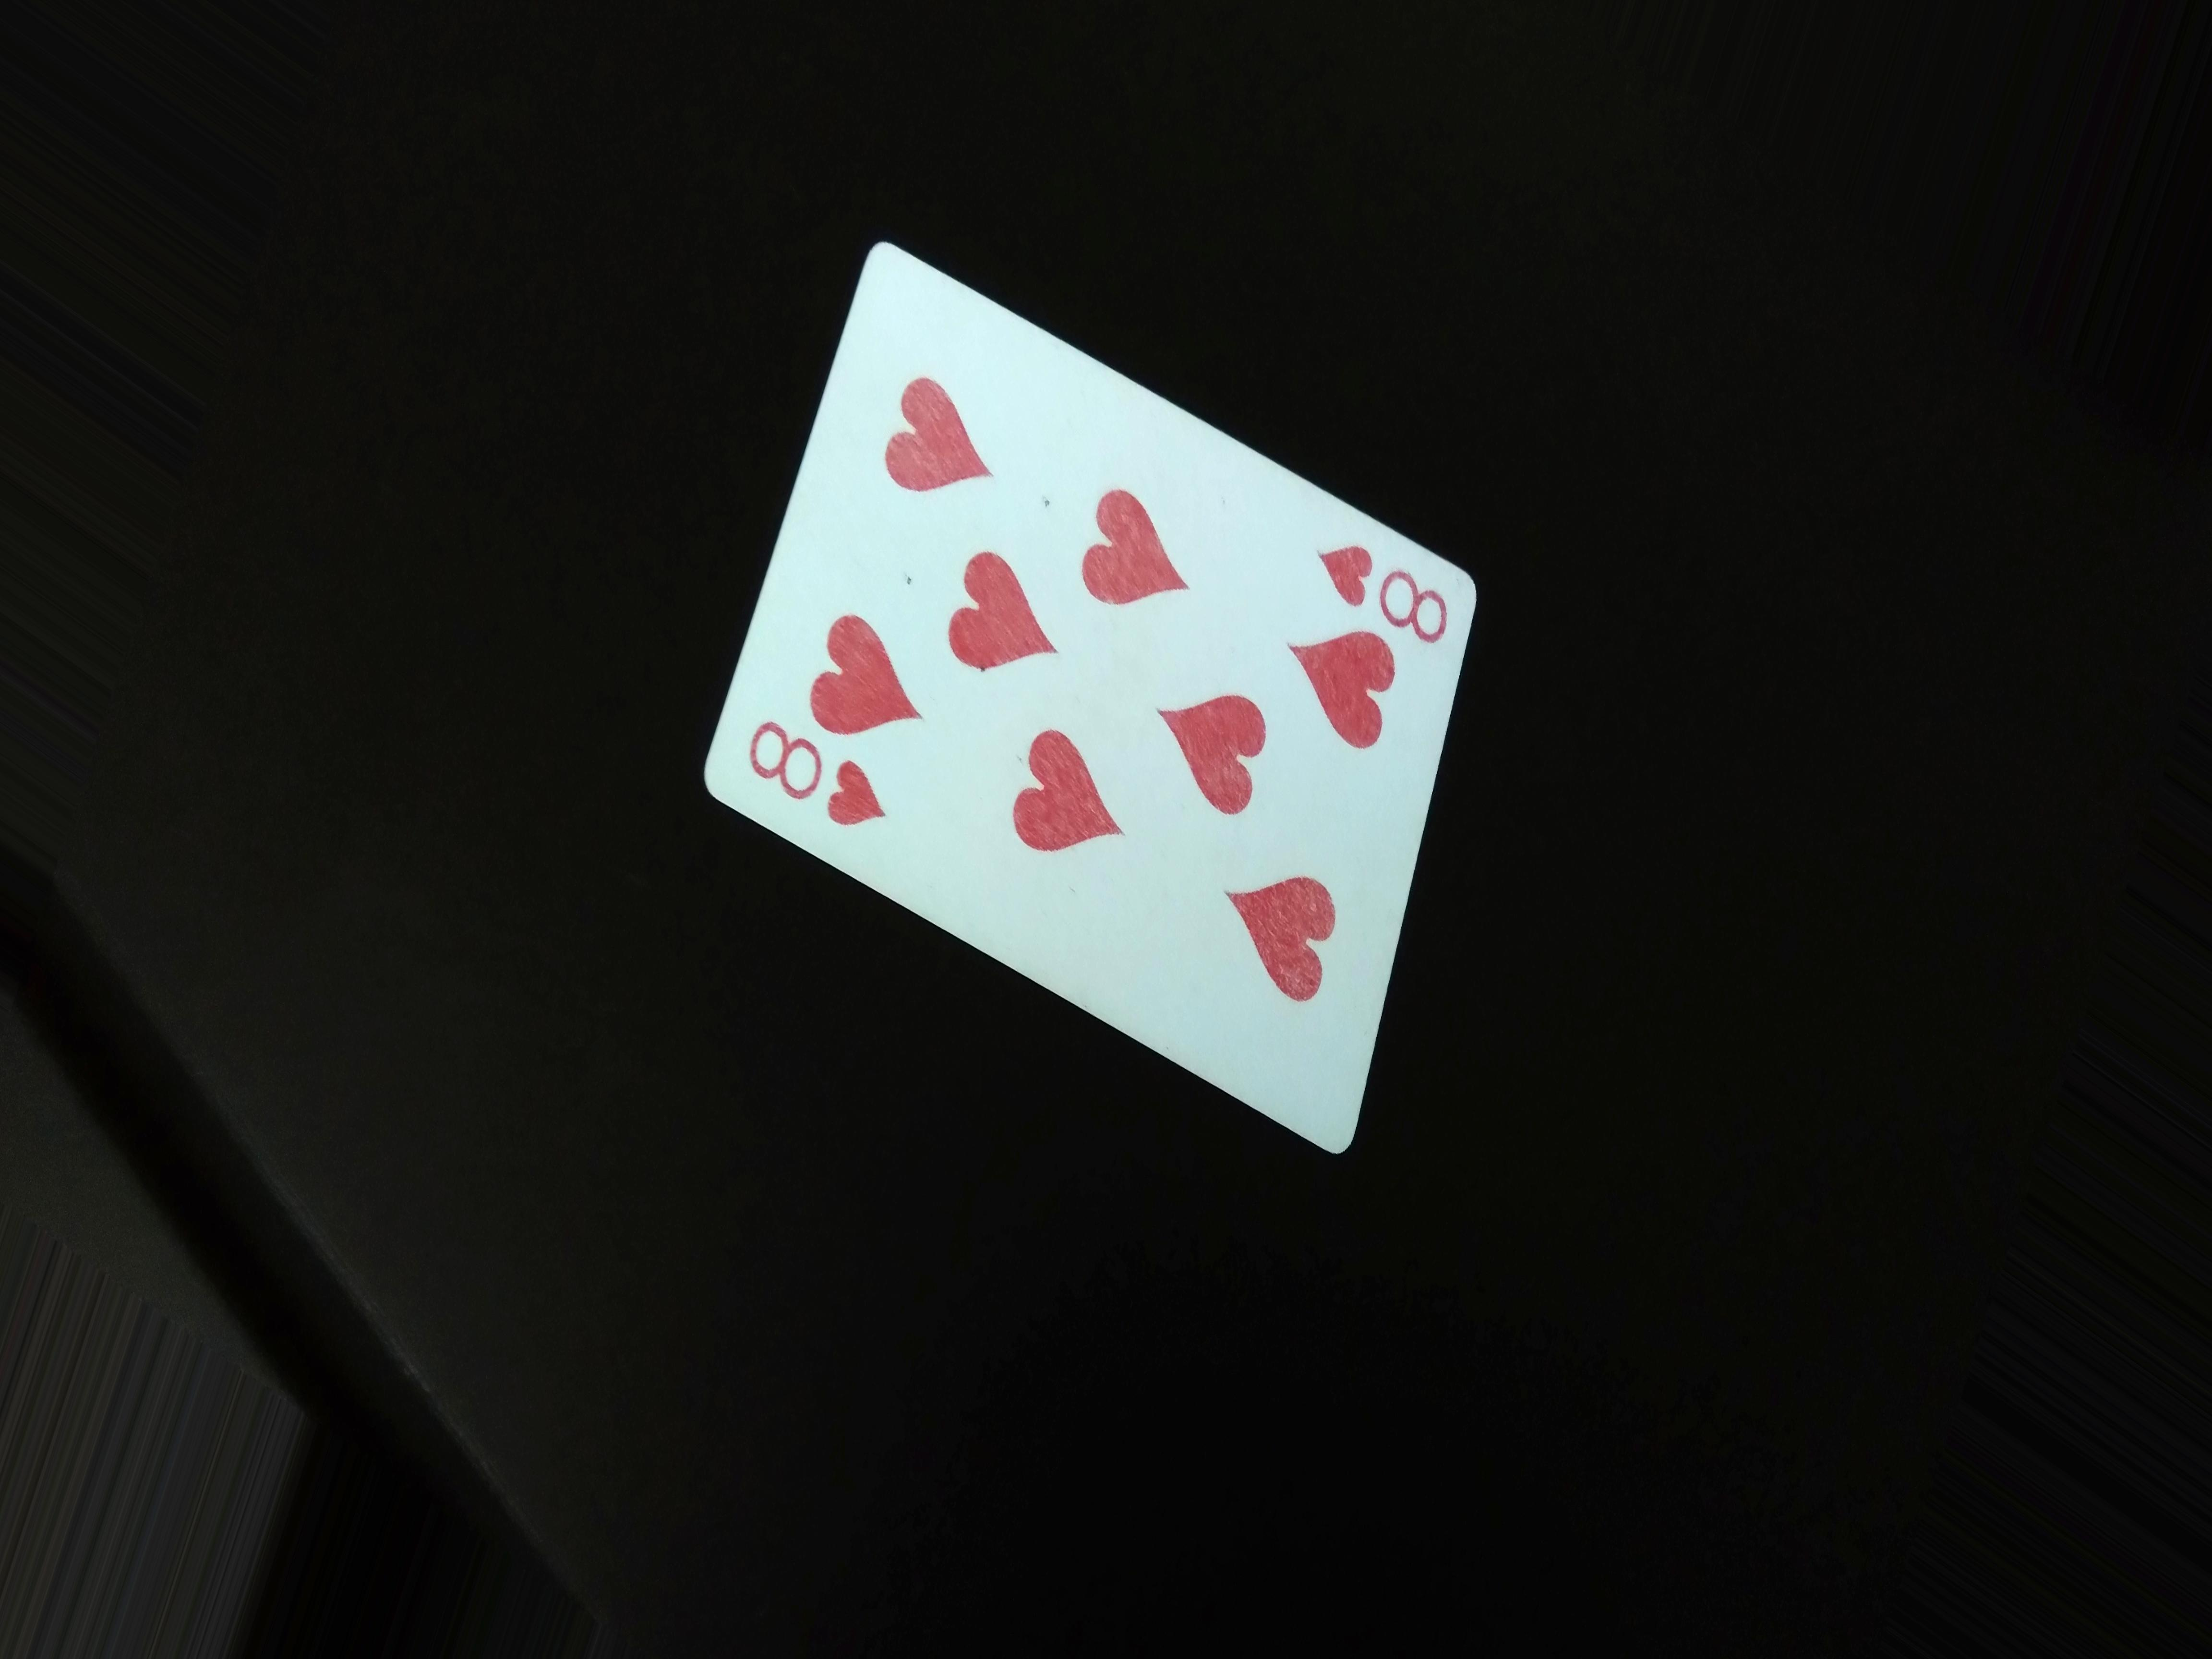8H: (726, 716, 953, 845)
